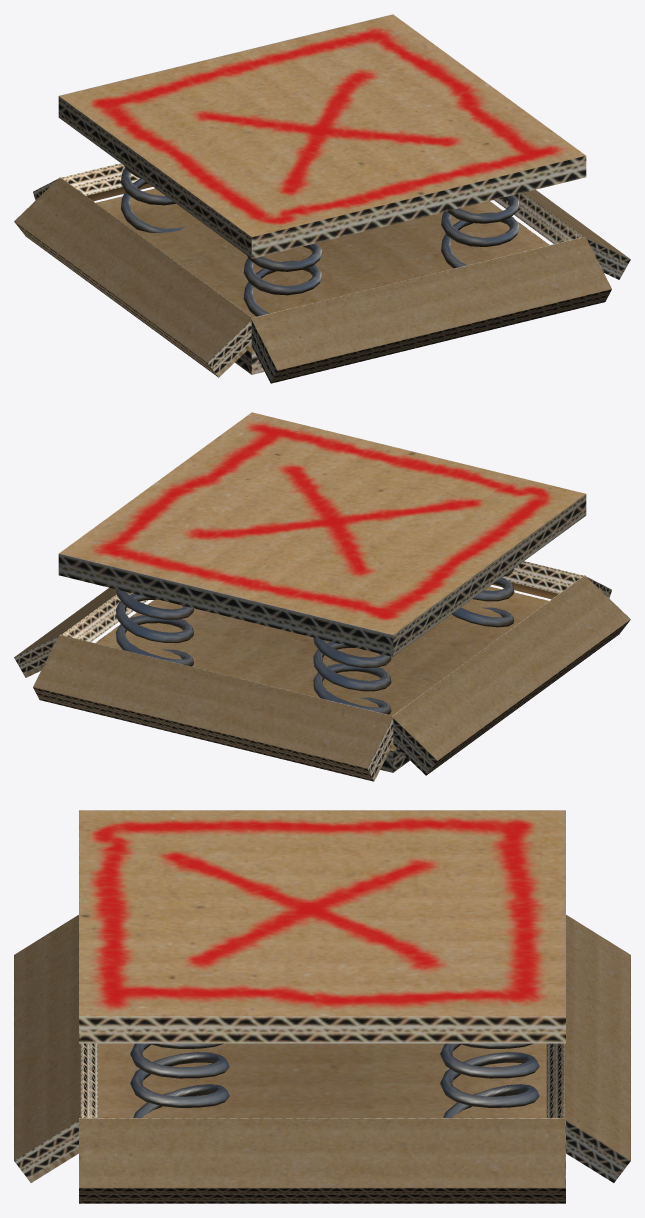
Rendered from Cardboard_jumpad.fbx.
3 views of the same model, one above another, from view 1: azimuth 30°, elevation 25°; view 2: azimuth 150°, elevation 25°; view 3: azimuth 270°, elevation 25° (orthographic). The views are drawn at different scales.
Visible parts, largest first — view 1: Cardboard_jumpad; view 2: Cardboard_jumpad; view 3: Cardboard_jumpad.
Part boxes in pixels (box(x1,y1,x2,y2)): Cardboard_jumpad: box(14, 14, 630, 383); Cardboard_jumpad: box(14, 412, 630, 781); Cardboard_jumpad: box(14, 810, 630, 1203).
Size of the model in its own units: 17.85 by 5.54 by 17.85.
1 material, 1 textured.
